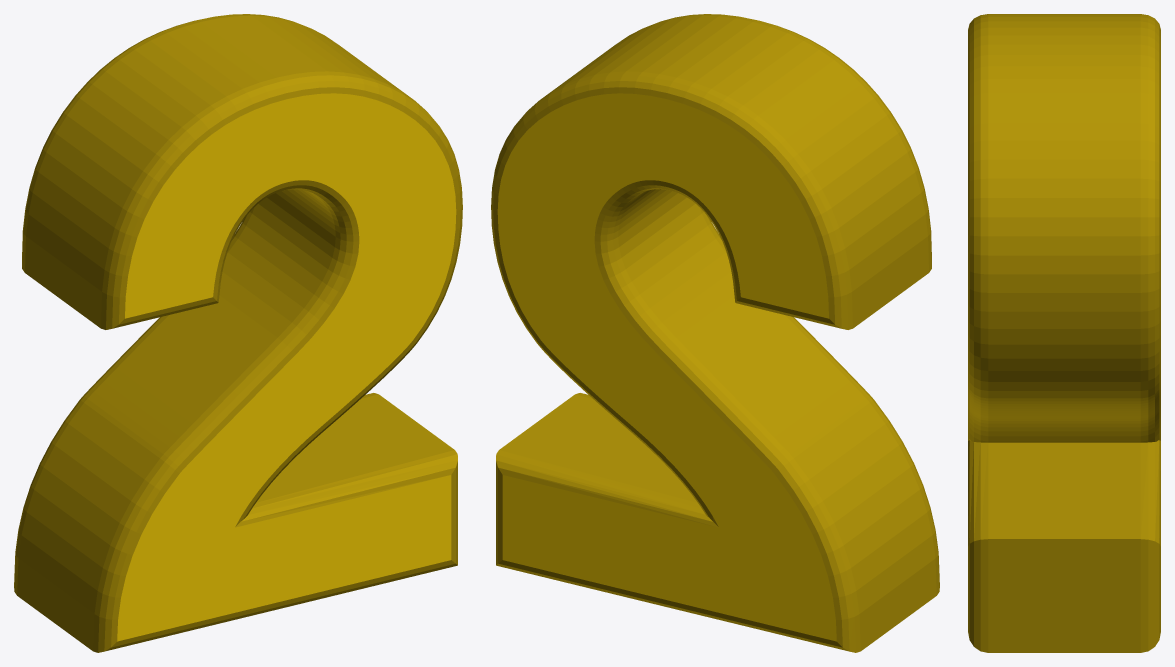
3 views of the same model, side by side, from view 1: azimuth 30°, elevation 25°; view 2: azimuth 150°, elevation 25°; view 3: azimuth 270°, elevation 25° (orthographic).
Bounding box in the file's own units: 0.9458 × 1.31 × 0.43.
